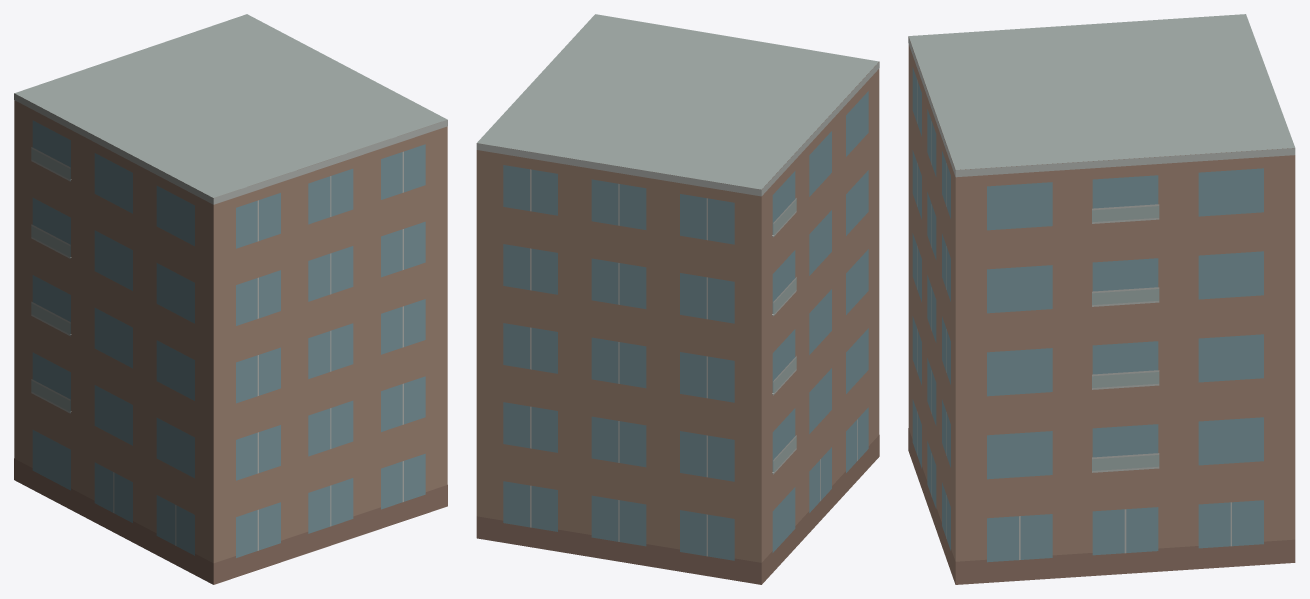
The model's file is survey-upis-32576540.glb.
3 views of the same model, side by side, from view 1: azimuth 30°, elevation 25°; view 2: azimuth 150°, elevation 25°; view 3: azimuth 270°, elevation 25° (orthographic). The views are drawn at different scales.
Visible parts, largest first — view 1: survey-upis-32576540.tmp; view 2: survey-upis-32576540.tmp; view 3: survey-upis-32576540.tmp.
Part boxes in pixels (x1,y1,x2,y2): survey-upis-32576540.tmp: [14, 14, 447, 584]; survey-upis-32576540.tmp: [476, 14, 879, 584]; survey-upis-32576540.tmp: [908, 14, 1295, 584].
Size of the model in its own units: 11.34 by 14.05 by 11.88.
